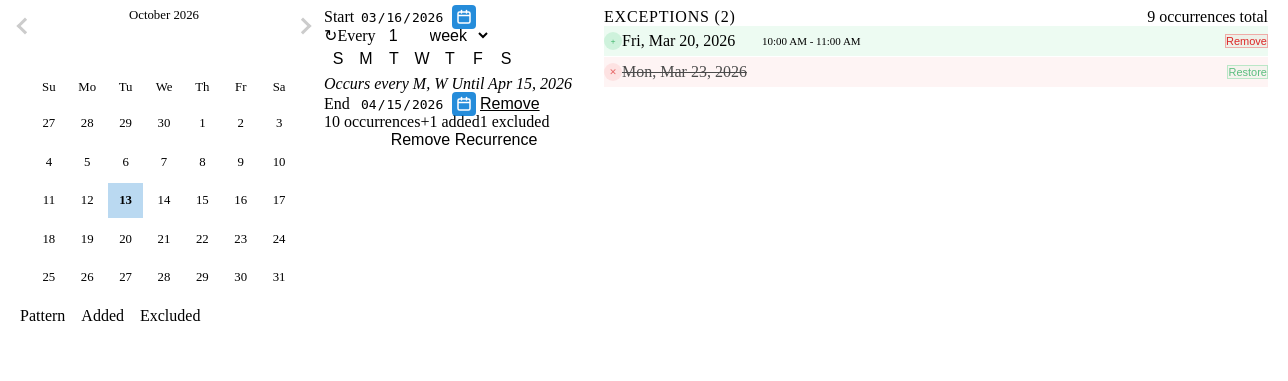
Test: RecurrenceTabContent › Occurrence Detail Editing › clicking occurrence row opens detail view
The width and height of the screenshot is (1288, 381).
Click the element with class "recurrence-occ-main" that starts with "Fri, Mar 20, 2026". click: [679, 40]
box: [604,26,1268,56]
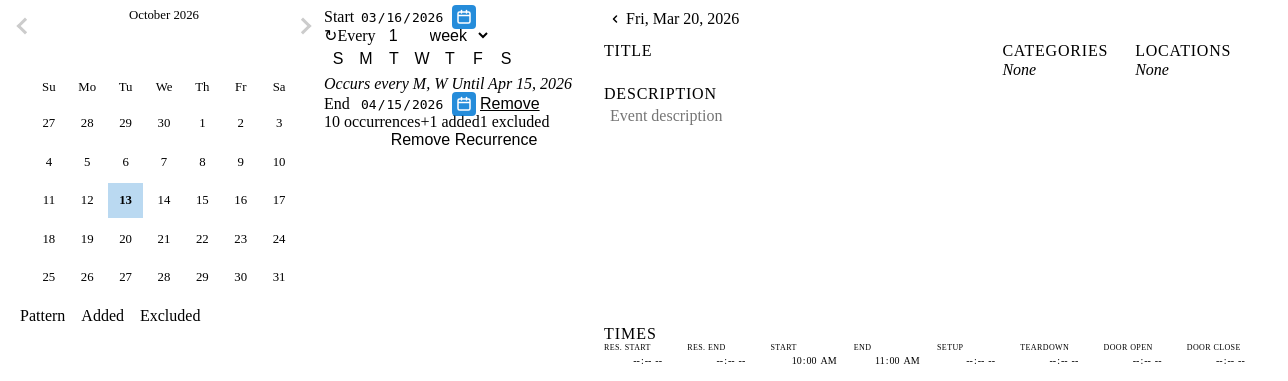
Expected: the button with class "recurrence-back-btn" is shown, [604,8,626,30]
